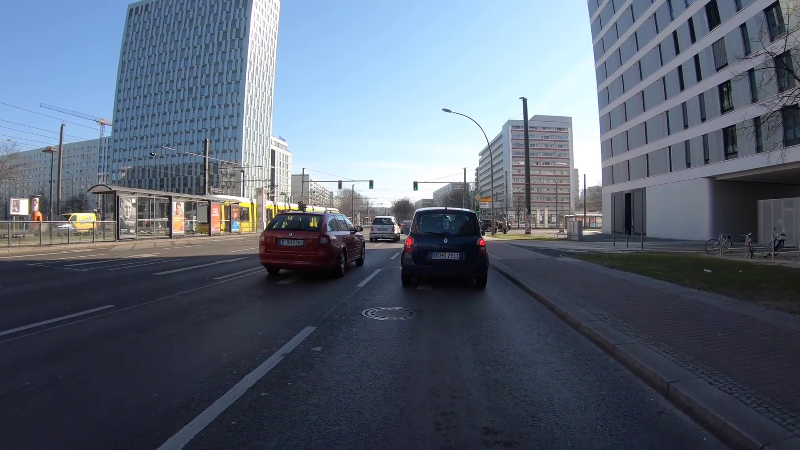Plate: (425, 249, 461, 261), (276, 237, 306, 249)
